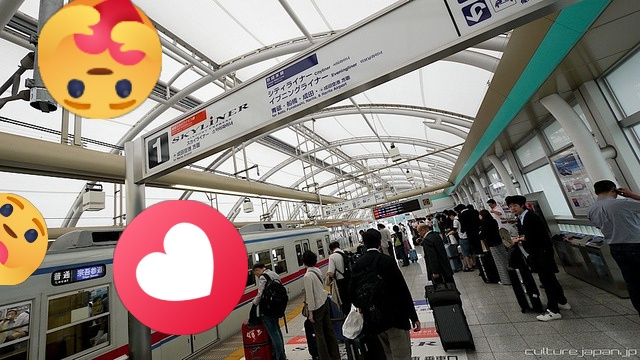care: (38, 0, 162, 119), (0, 193, 48, 285)
love: (113, 200, 248, 335)
